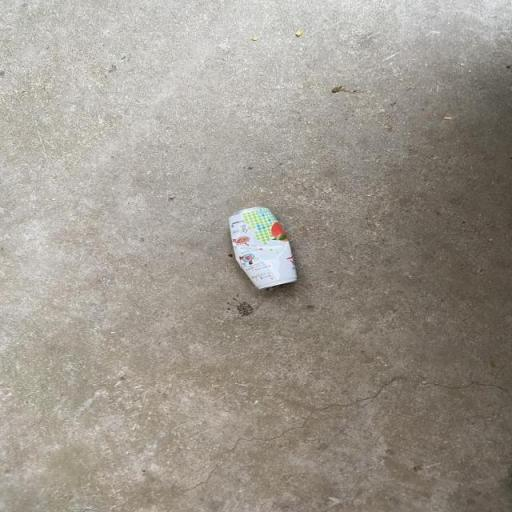metal: (204, 195, 335, 307)
